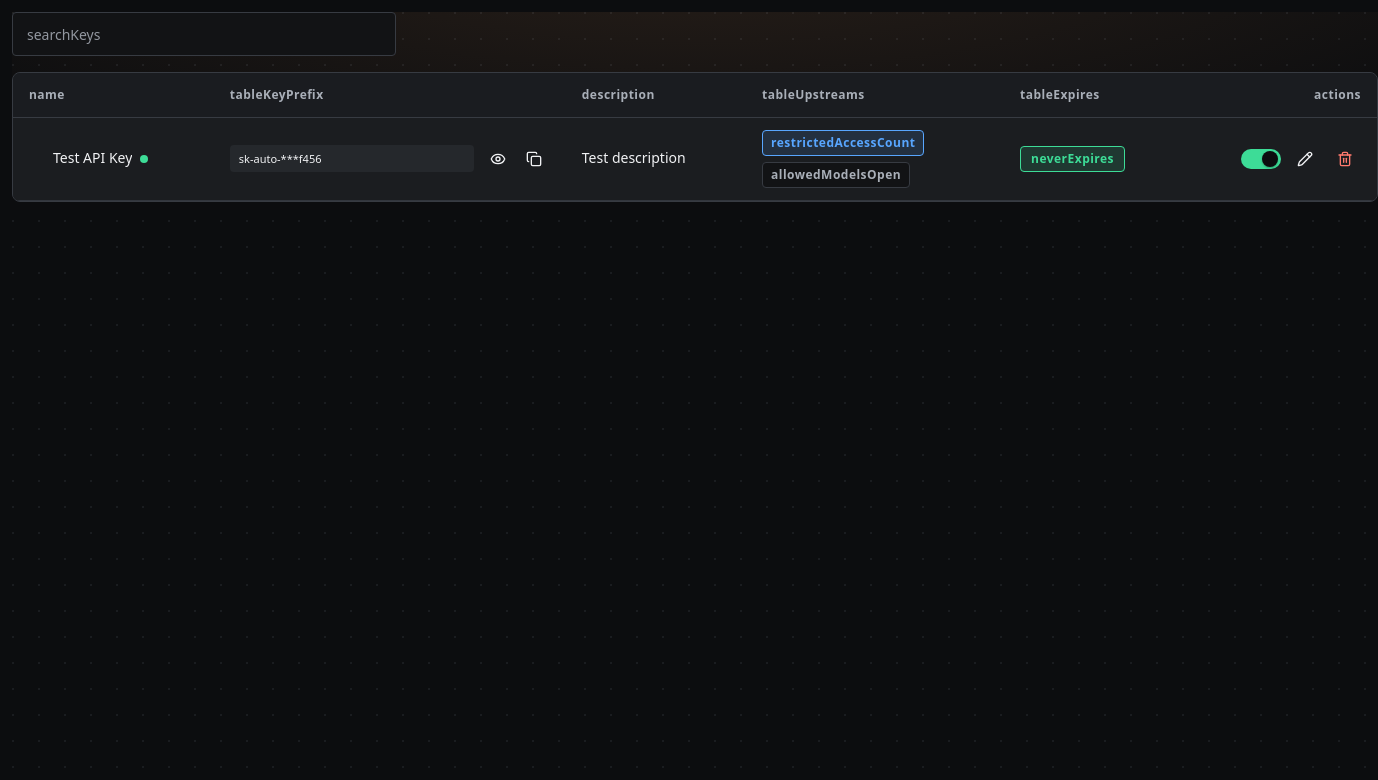
Test: KeysTable › Key Visibility Toggle › hides revealed key when toggled again without re-fetching
This screenshot has width=1378, height=780.
What coordinates should you click on to do the following:
click the button named "revealKey"
I would click on:
 (498, 159)
Its box is [482,143,514,175].
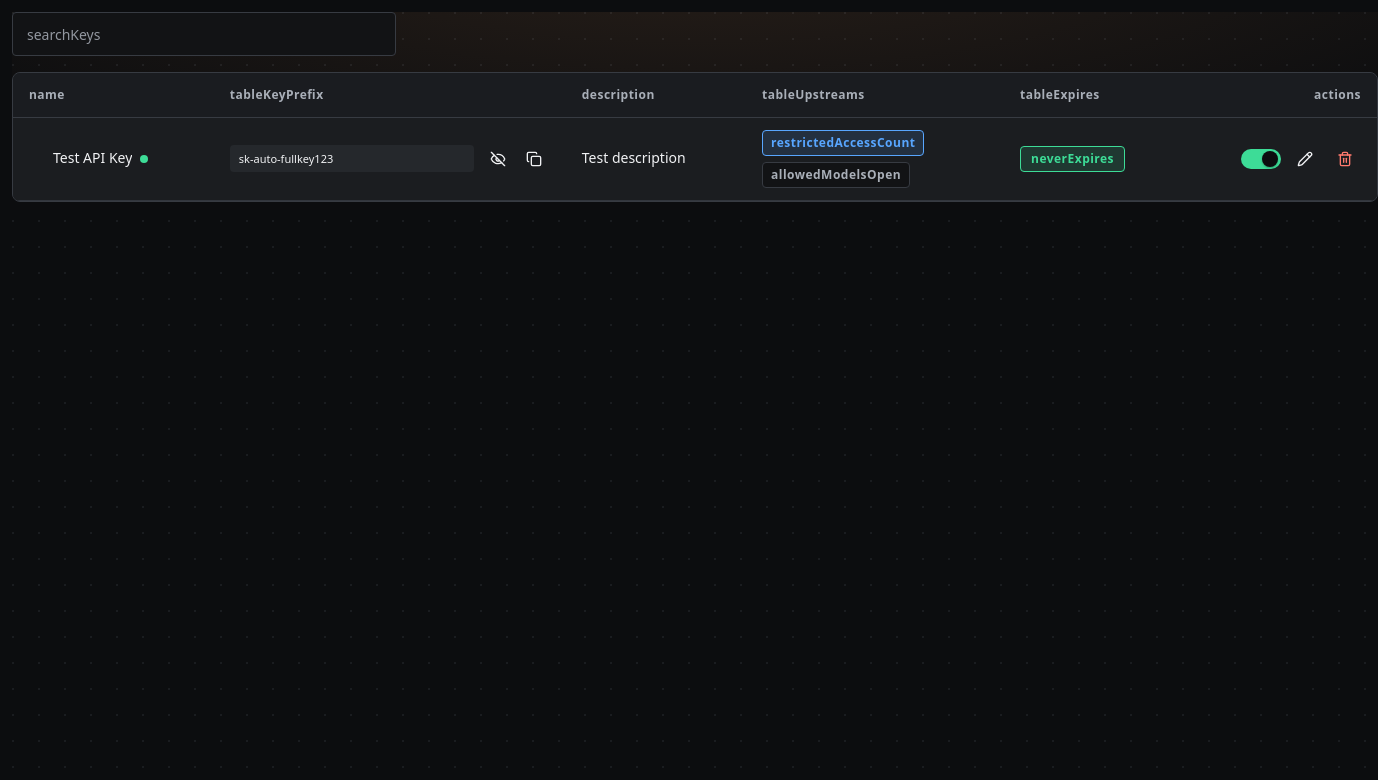
Expected: the text "sk-auto-fullkey123" is shown, [230,145,474,172]
What coordinates should you click on to do the following:
click the button named "hideKey"
I would click on:
 (498, 159)
Its box is [482,143,514,175].
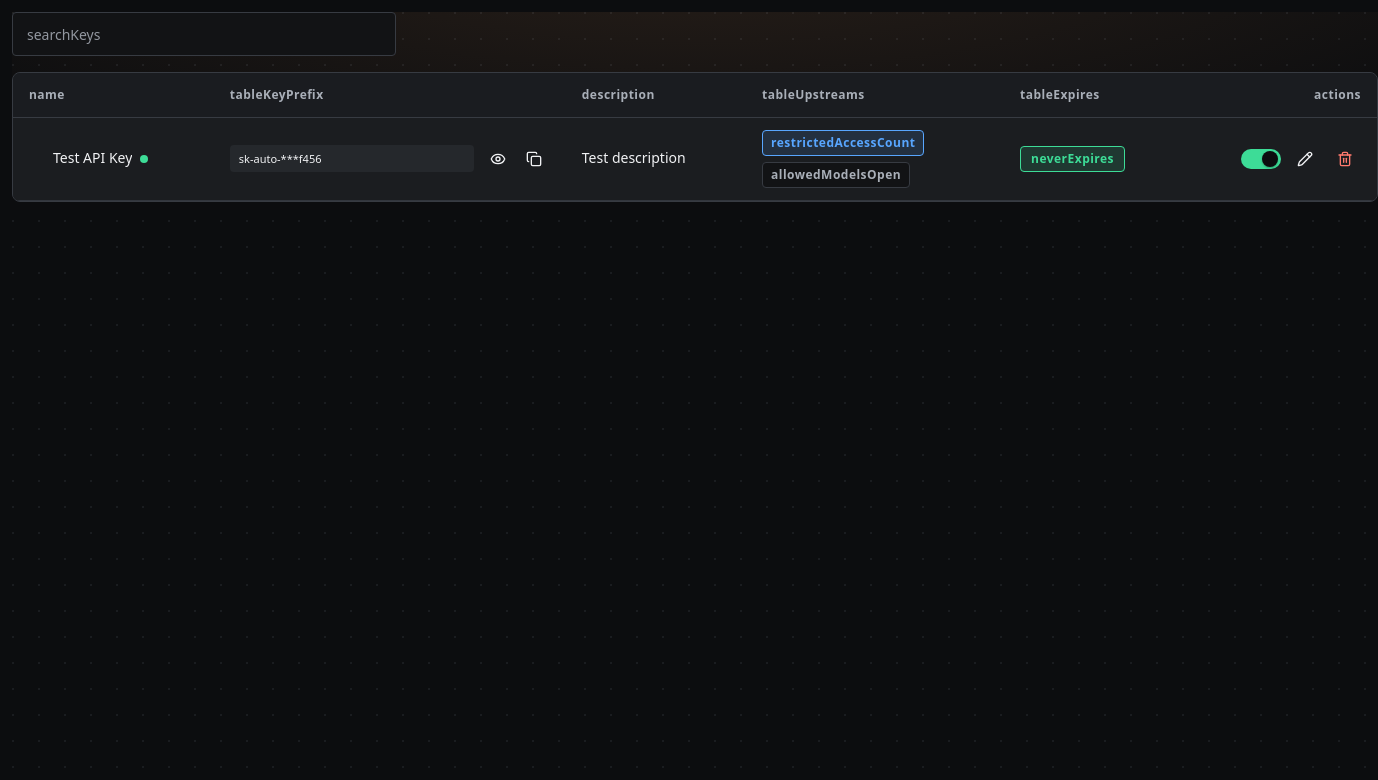
Expected: the text "sk-auto-fullkey123" is gone
Expected: the text "sk-auto-***f456" is shown, [230,145,474,172]
